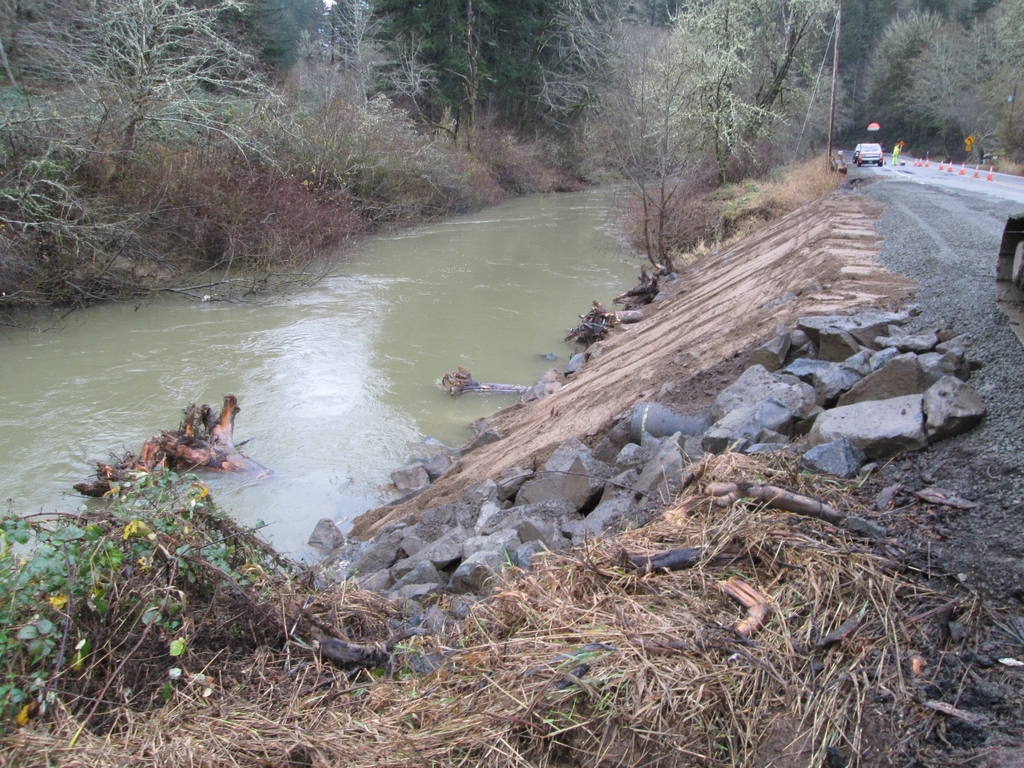Tree: (0, 0, 1023, 275)
